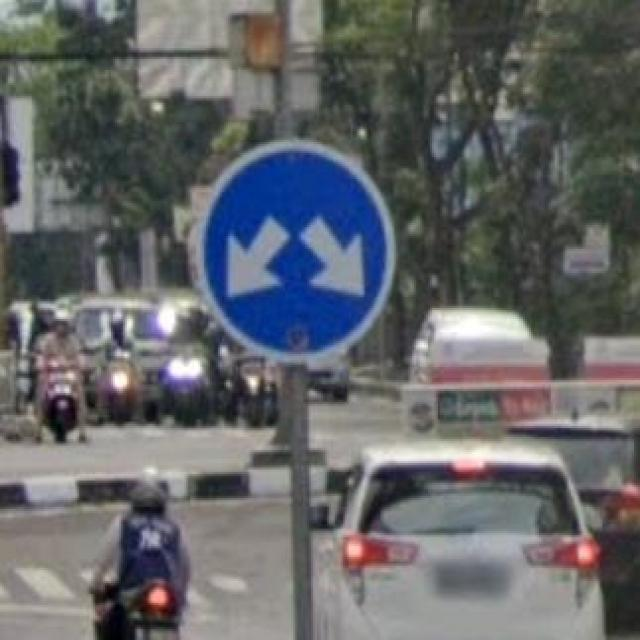traffic sign: (193, 140, 395, 360)
